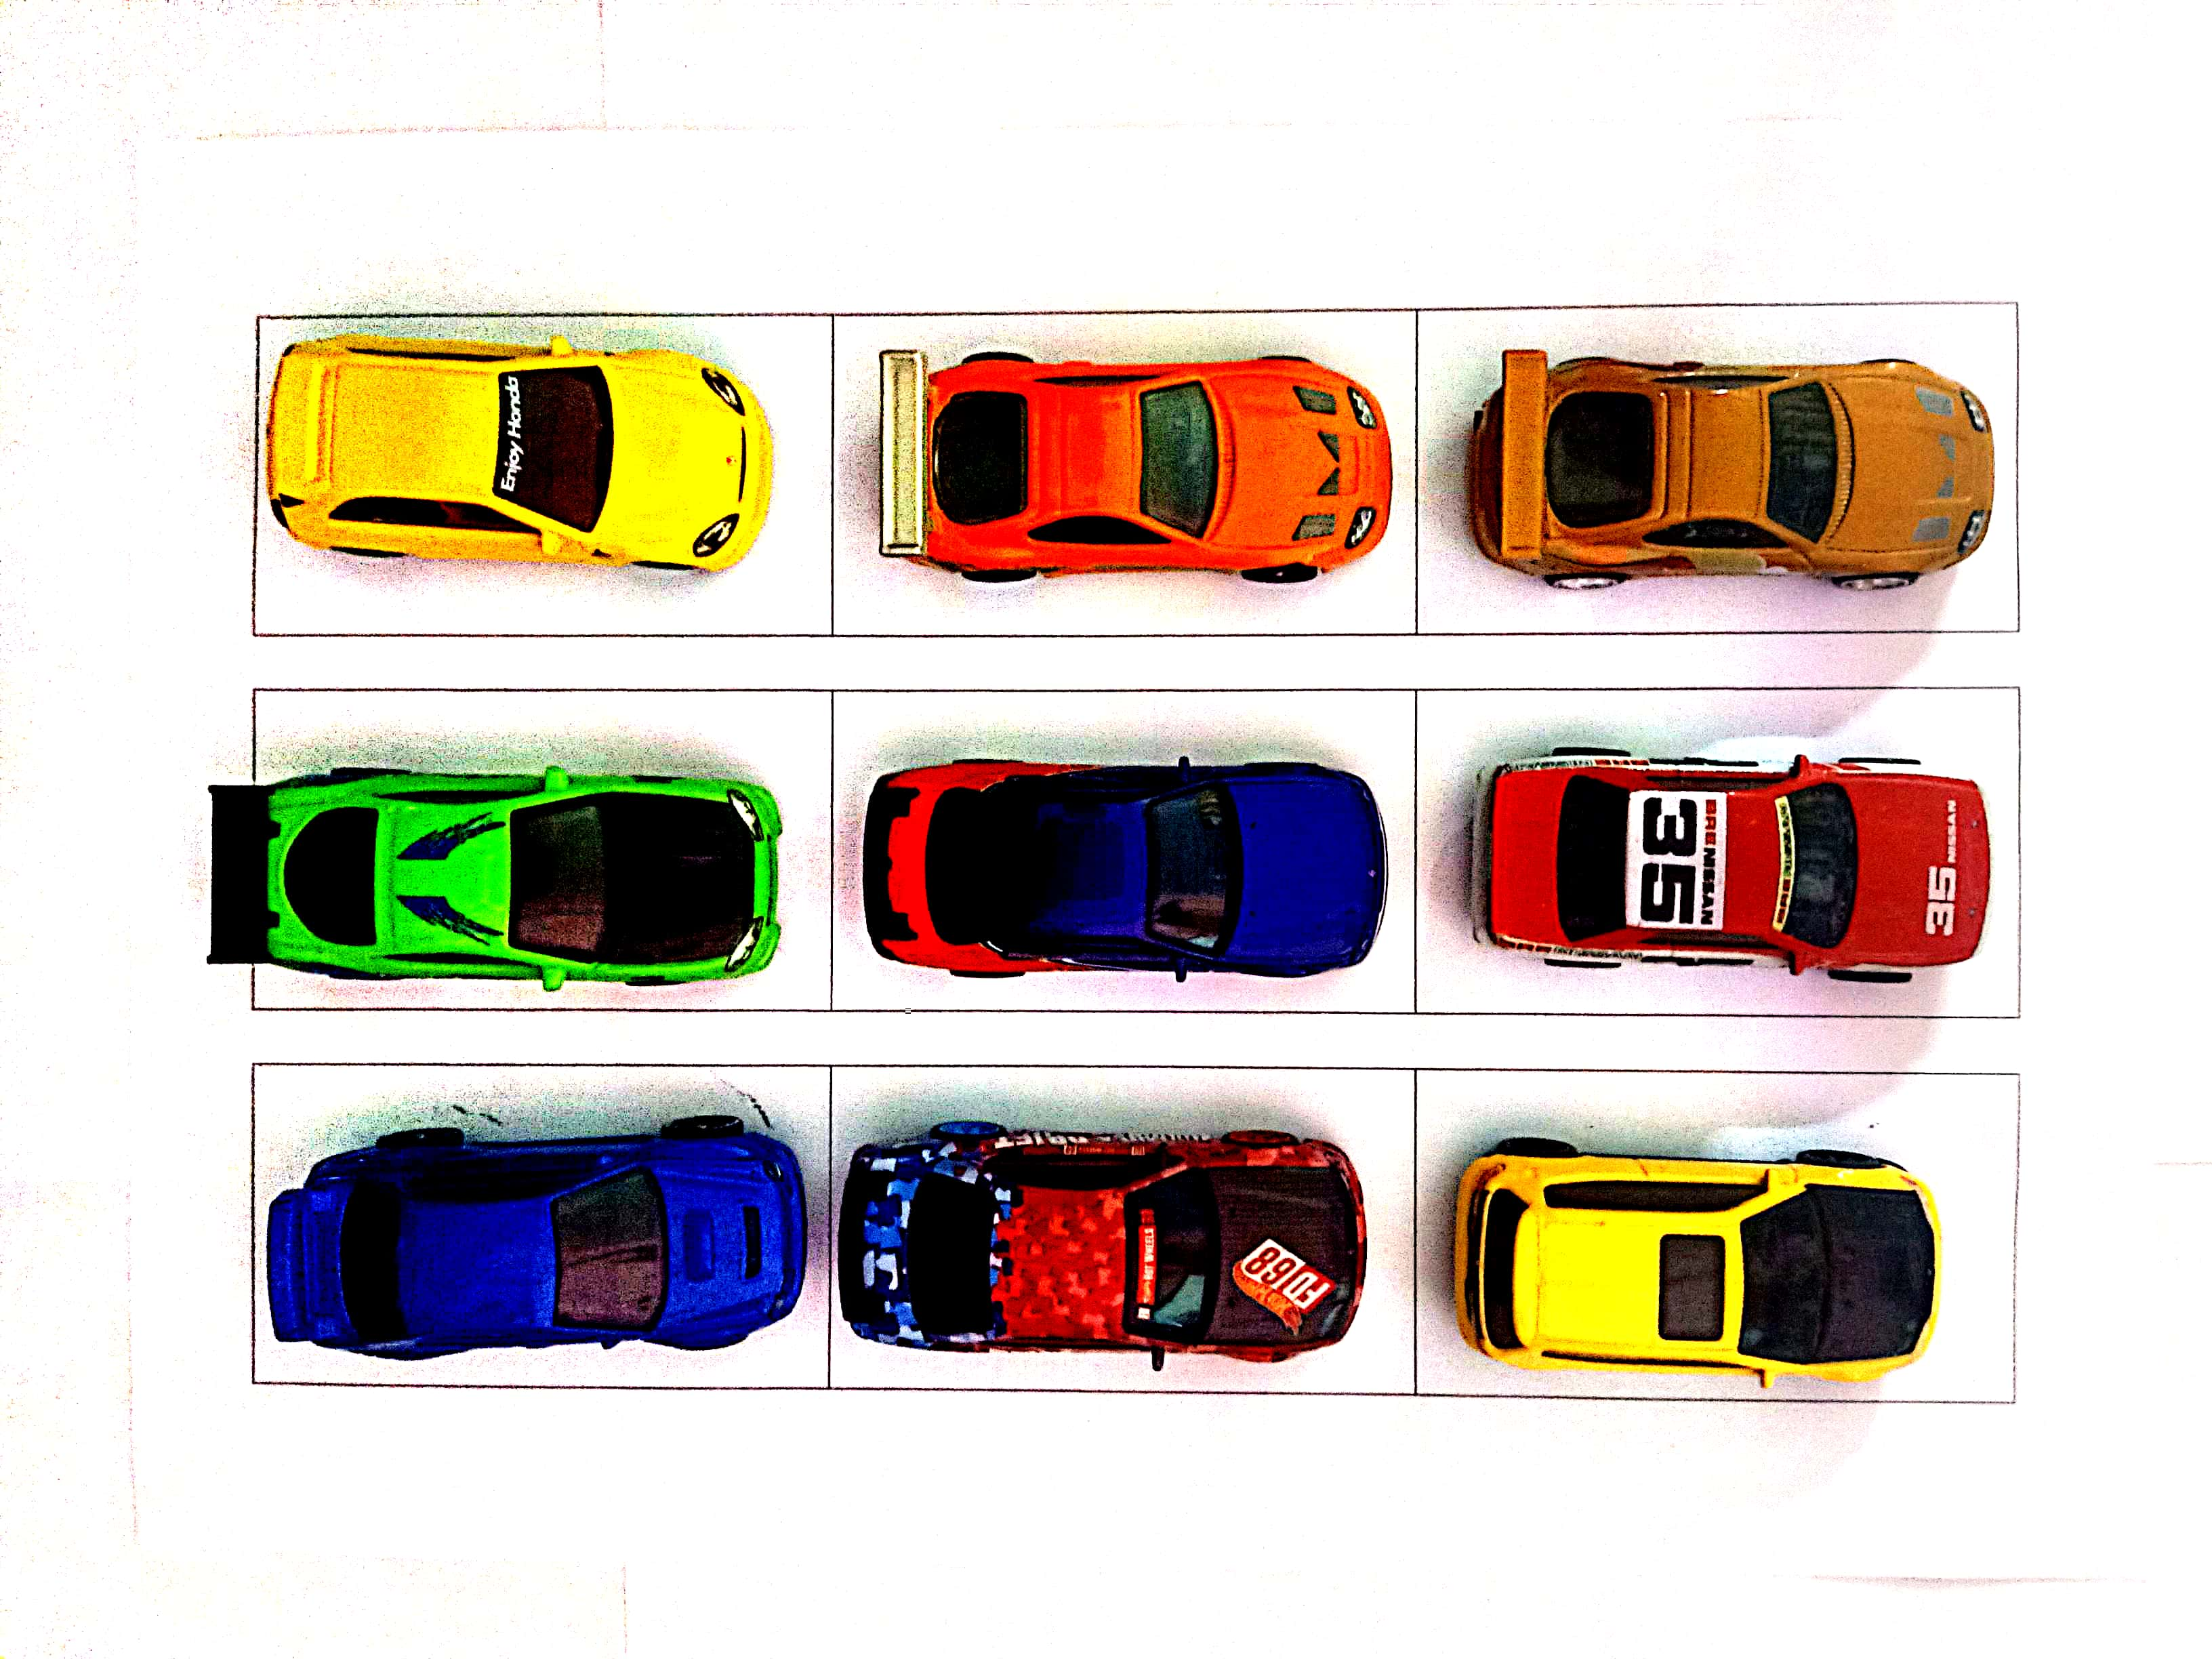Busy: (1418, 300, 2024, 631), (1418, 687, 2015, 1016), (834, 1065, 1414, 1396), (831, 314, 1420, 640), (1418, 1077, 2012, 1399), (254, 1066, 834, 1384), (256, 317, 831, 634), (254, 690, 834, 1004), (834, 697, 1411, 1011)
